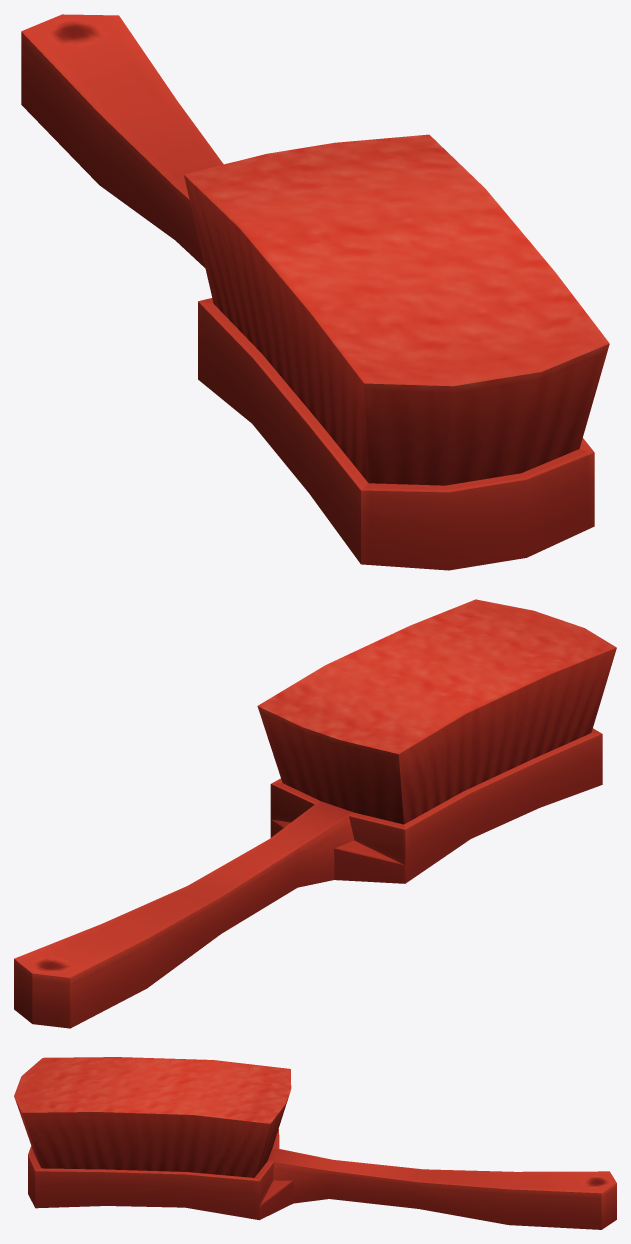
File: WuZhengDiaoChaKe_01_shuazi_01.FBX
3 renders of one model, top to bottom at view 1: azimuth 30°, elevation 25°; view 2: azimuth 150°, elevation 25°; view 3: azimuth 270°, elevation 25°, orthographic. The views are drawn at different scales.
Parts seen in each view (by area): view 1: CeSuo_chuangshua_01; view 2: CeSuo_chuangshua_01; view 3: CeSuo_chuangshua_01.
Part boxes in pixels (left/top/right/bottom): CeSuo_chuangshua_01: left=21, top=14, right=609, bottom=570; CeSuo_chuangshua_01: left=14, top=599, right=616, bottom=1028; CeSuo_chuangshua_01: left=14, top=1057, right=616, bottom=1229.
Bounding box in the file's own units: 44.36 × 29.44 × 148.
